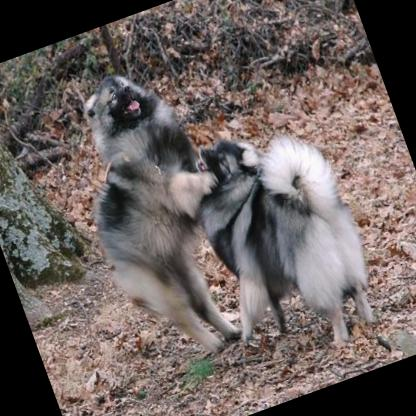keeshond: (44, 51, 270, 374), (171, 103, 390, 375)
